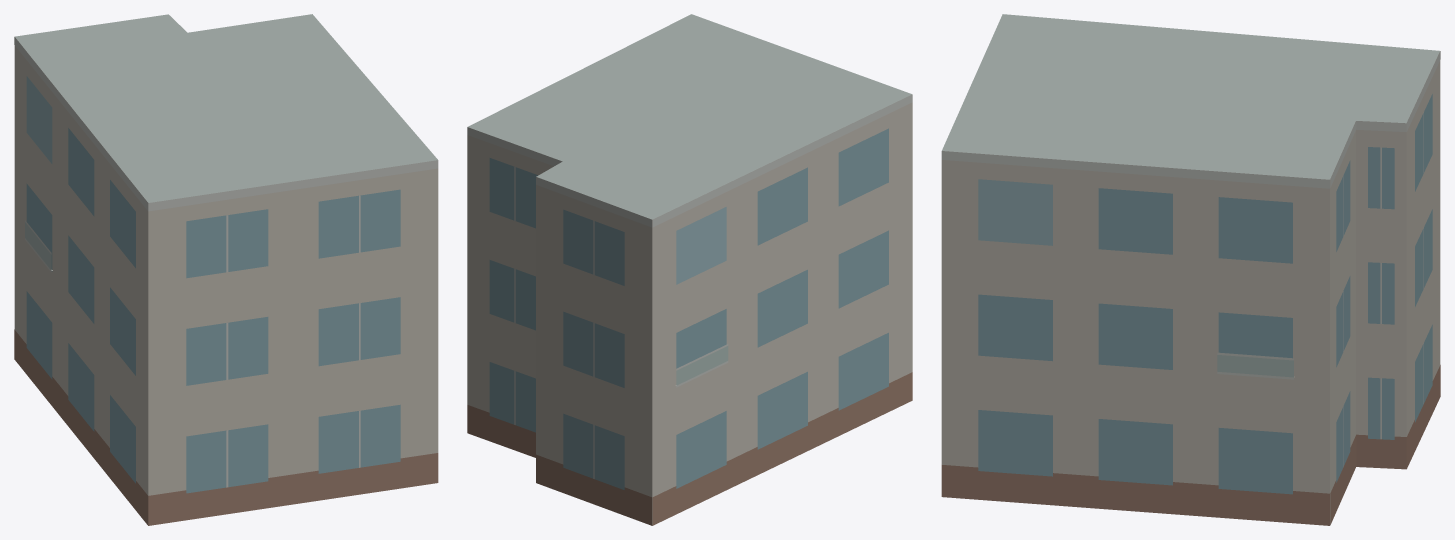
Rendered from survey-upis-32674705.glb.
3 renders of one model, left to right at view 1: azimuth 30°, elevation 25°; view 2: azimuth 150°, elevation 25°; view 3: azimuth 270°, elevation 25°, orthographic. The views are drawn at different scales.
Visible parts, largest first — view 1: survey-upis-32674705.tmp; view 2: survey-upis-32674705.tmp; view 3: survey-upis-32674705.tmp.
Boxes of the visible parts, x1,y1,x2,y2 form: survey-upis-32674705.tmp: [14, 14, 438, 525]; survey-upis-32674705.tmp: [467, 14, 912, 525]; survey-upis-32674705.tmp: [941, 14, 1440, 525].
Bounding box in the file's own units: 9.67 × 9.4 × 12.29.
